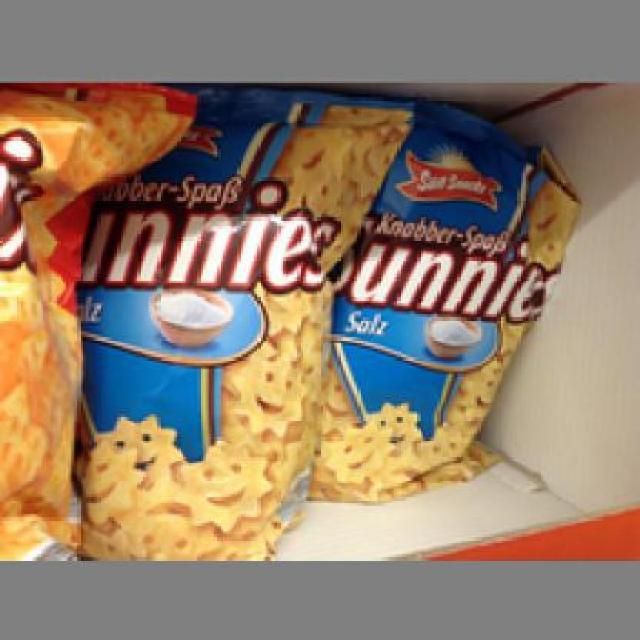Chips: (89, 86, 380, 557), (334, 94, 577, 506)
